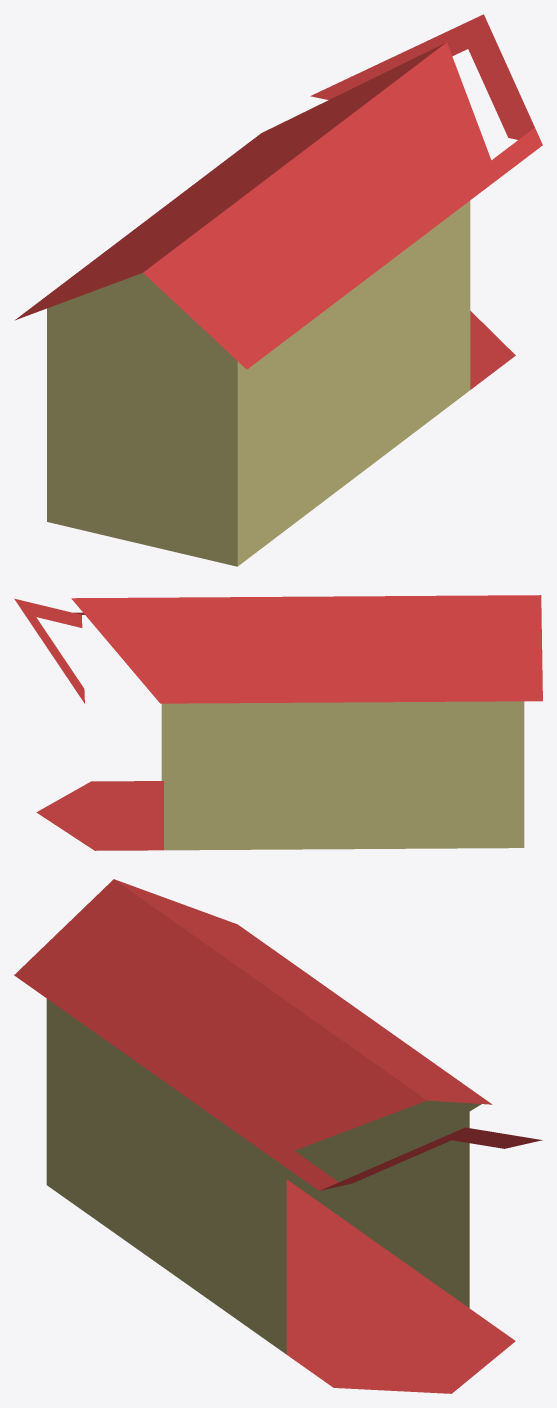
3 renders of one model, top to bottom at view 1: azimuth 30°, elevation 25°; view 2: azimuth 150°, elevation 25°; view 3: azimuth 270°, elevation 25°, orthographic. The views are drawn at different scales.
Size of the model in its own units: 20.93 by 16.73 by 9.67.
